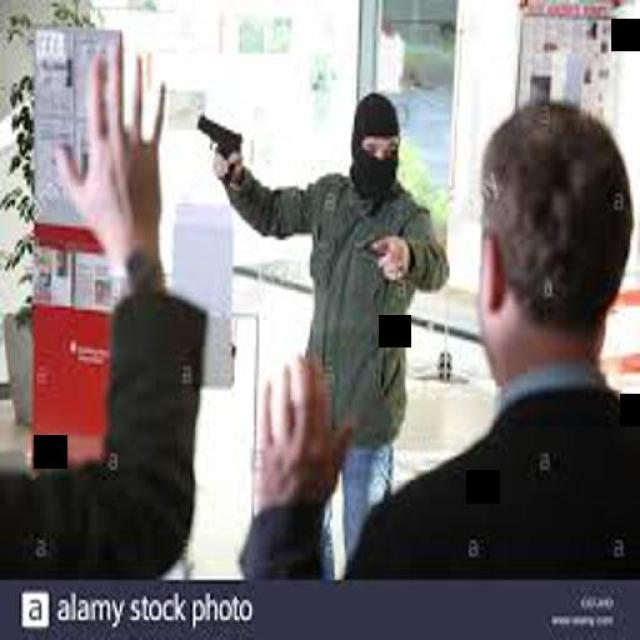gun: (194, 111, 245, 179)
